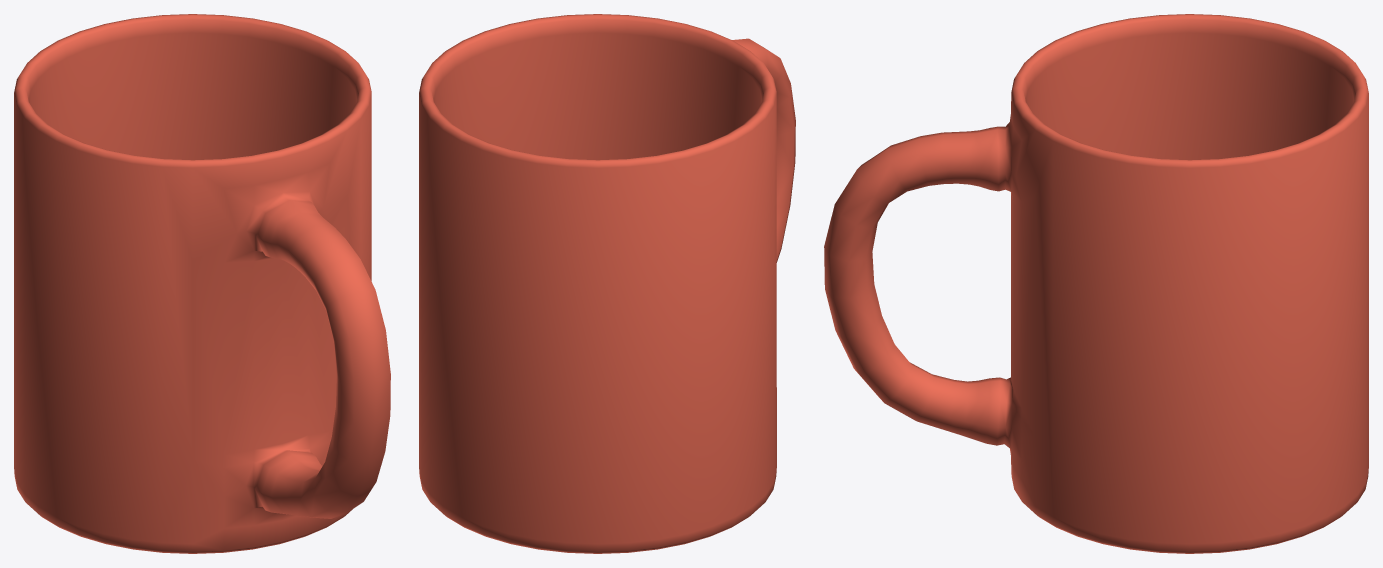
The model's file is mug optimized.fbx.
3 views of the same model, side by side, from view 1: azimuth 30°, elevation 25°; view 2: azimuth 150°, elevation 25°; view 3: azimuth 270°, elevation 25° (orthographic).
Parts seen in each view (by area): view 1: Cylinder; view 2: Cylinder; view 3: Cylinder.
Boxes of the visible parts, x1,y1,x2,y2 form: Cylinder: (14,14,390,553); Cylinder: (419,14,795,553); Cylinder: (824,14,1368,553).
Size of the model in its own units: 164 by 200 by 250.
